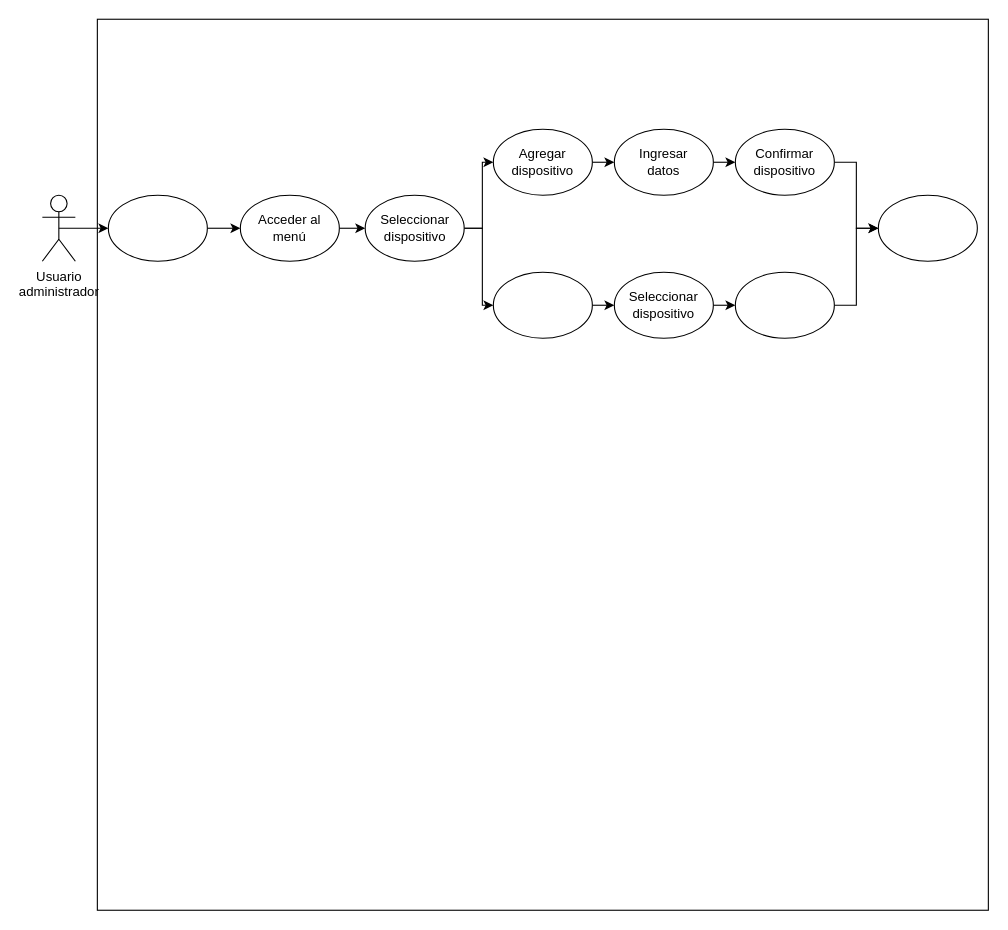
Image size: 1008x930. Some labels were removed from this diagram. The shapes that lost their labels are listed below. From the top down, each one's centre as x and y in pixels, then its label:
At point (157, 227): "Iniciar sesión".
At point (927, 227): "Se muestra diagrama actualizado".
At point (542, 304): "Eliminar dispositivo".
At point (784, 304): "Confirmar eliminación".
